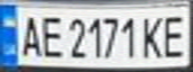1: (118, 12, 139, 59), (84, 14, 106, 58)
2: (63, 14, 87, 58)
7: (103, 14, 121, 58)
A: (15, 11, 45, 58)
E: (160, 10, 190, 60), (36, 11, 66, 58)
K: (139, 11, 169, 60)
